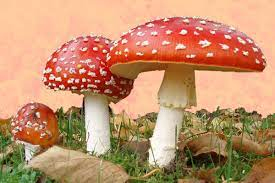Amanita muscaria: (107, 12, 271, 169), (46, 27, 135, 153), (9, 95, 55, 169)
